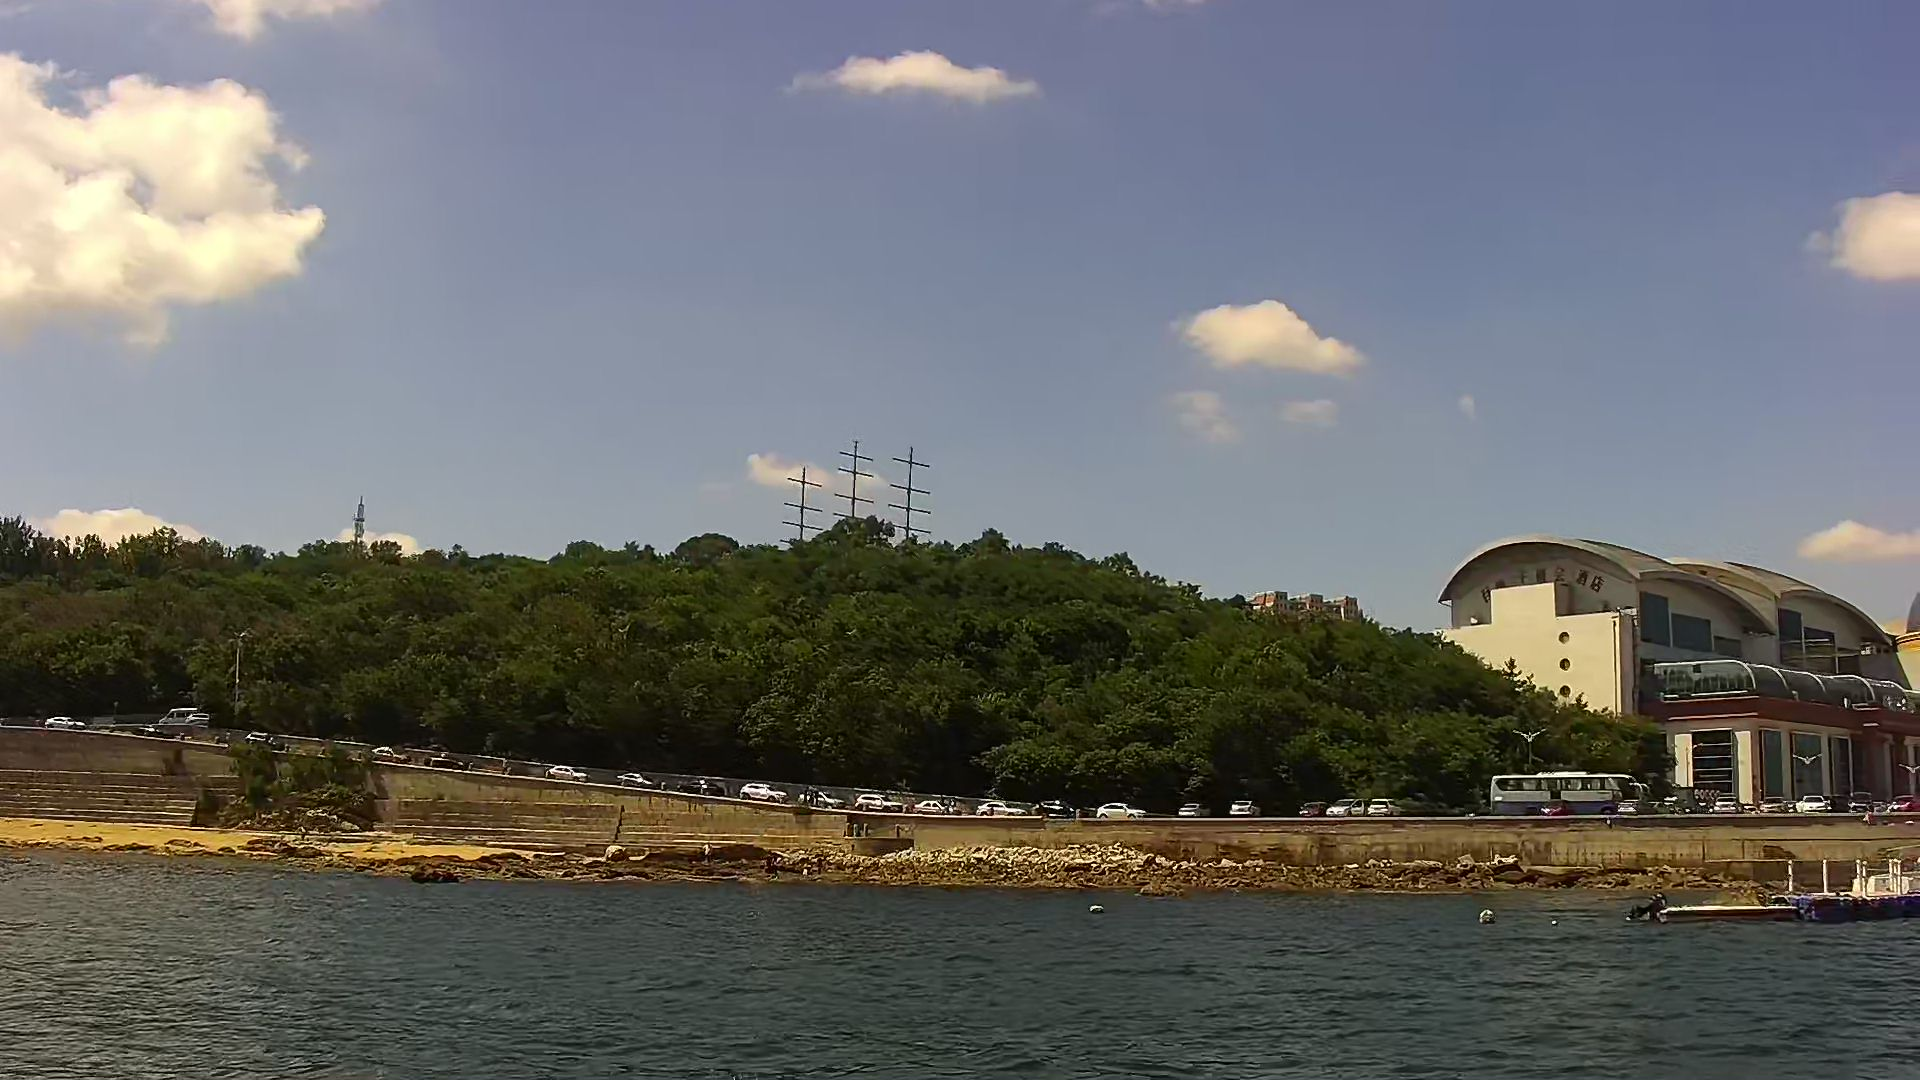ball: (1473, 899, 1502, 928), (1085, 898, 1112, 916)
boat: (1654, 884, 1796, 919)
harbor: (1808, 843, 1920, 918)
